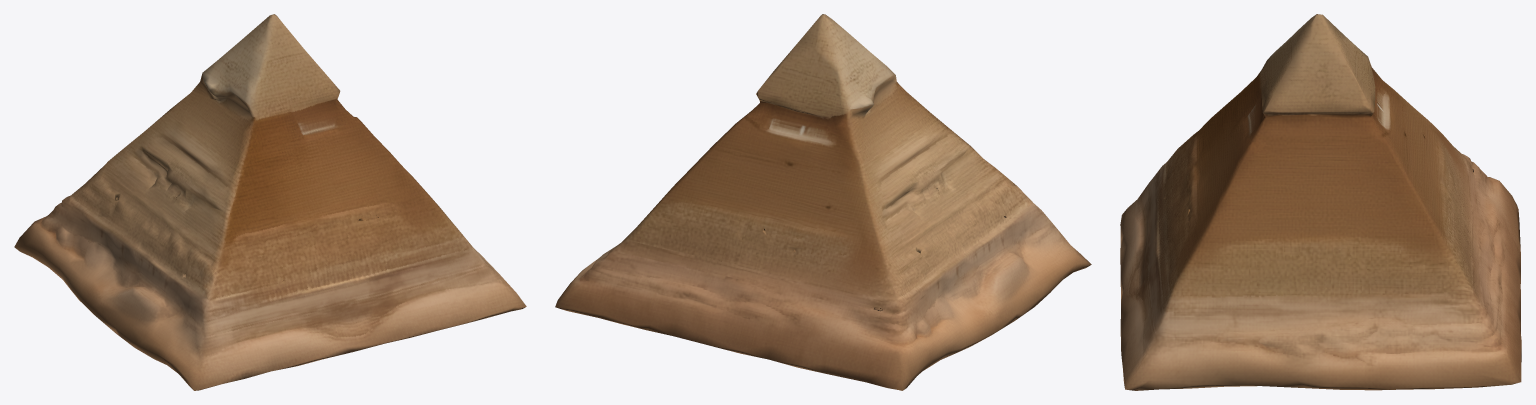
The picture shows the model from 3 angles, left to right: view 1: azimuth 30°, elevation 25°; view 2: azimuth 150°, elevation 25°; view 3: azimuth 270°, elevation 25°; orthographic projection. The views are drawn at different scales.
Visible parts, largest first — view 1: geometry_0; view 2: geometry_0; view 3: geometry_0.
Part boxes in pixels (bbox=[...]): geometry_0: bbox=[14, 14, 526, 390]; geometry_0: bbox=[555, 14, 1091, 390]; geometry_0: bbox=[1120, 14, 1521, 390].
Bounding box in the file's own units: 1 × 0.7365 × 0.9194.
Materials: 1 (1 with a texture image).
